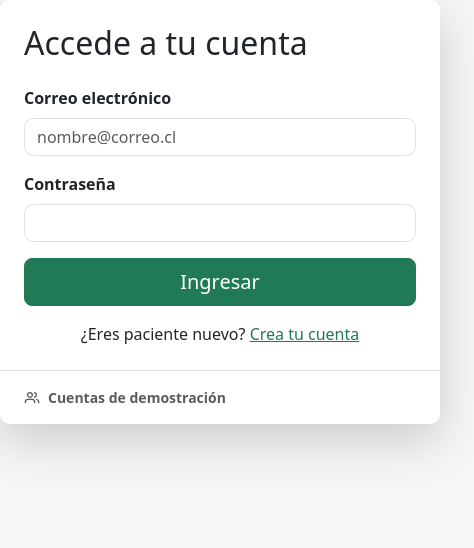
Test: components/FormLogin › valida que se ingresen correo y contraseña antes de enviar
Click the button "Ingresar" at (220, 282), box [24,258,416,306]
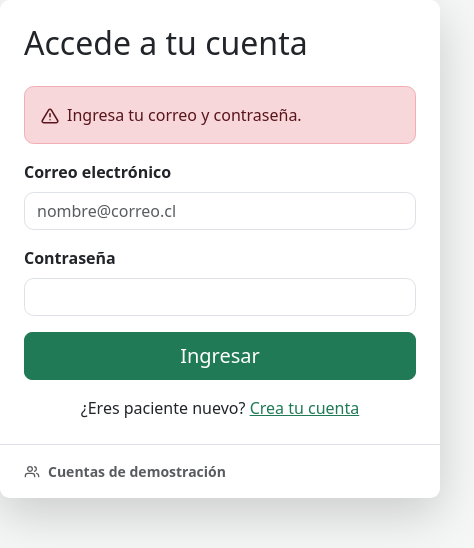
Result: the message shows "Ingresa tu correo y contraseña" at [67,104,302,126]
